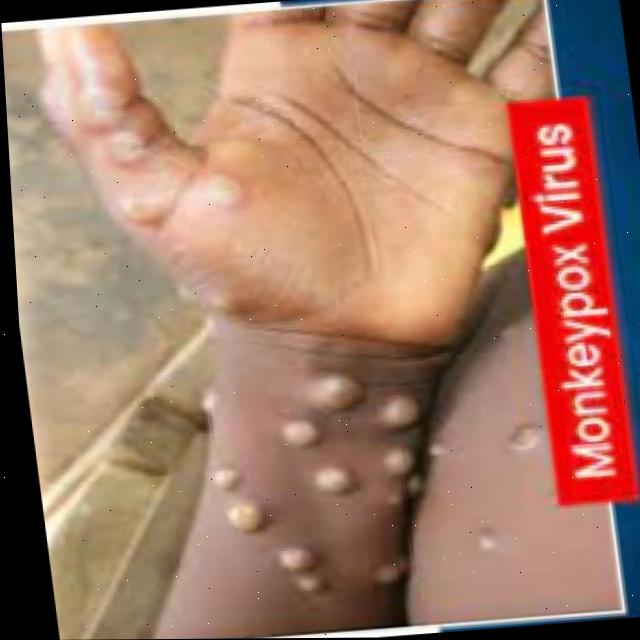Eczema: (207, 359, 529, 592), (61, 88, 236, 270)
